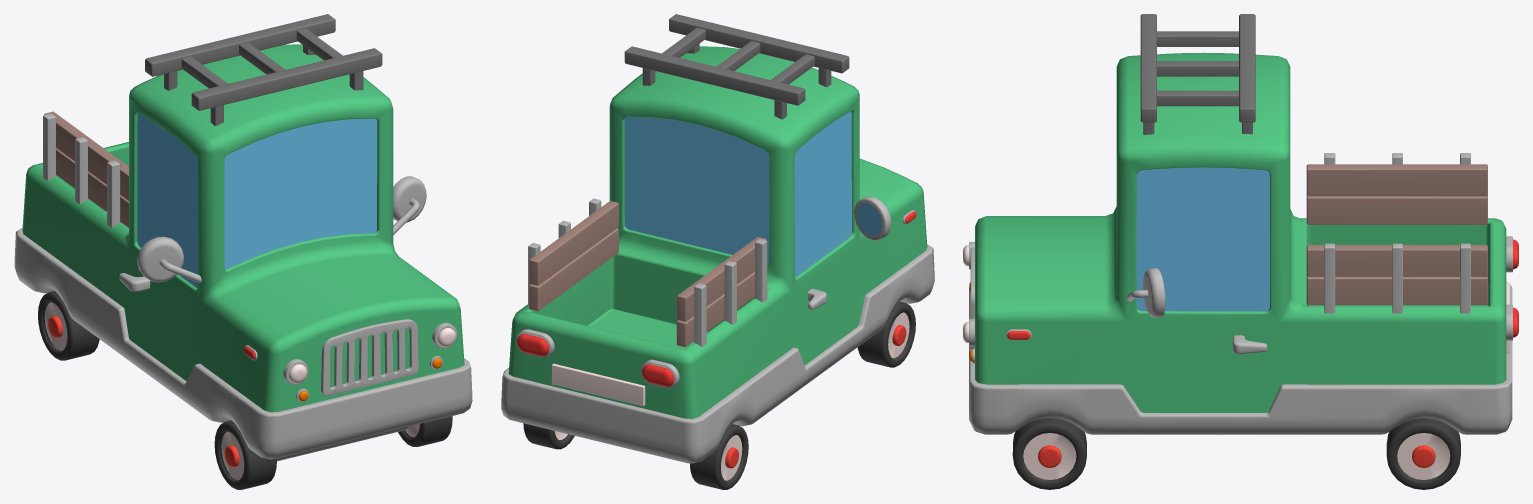
Rendered from Farm_13_Truck_1.glb.
3 renders of one model, left to right at view 1: azimuth 30°, elevation 25°; view 2: azimuth 150°, elevation 25°; view 3: azimuth 270°, elevation 25°, orthographic. The views are drawn at different scales.
Visible parts, largest first — view 1: Farm_13_Truck_1; view 2: Farm_13_Truck_1; view 3: Farm_13_Truck_1.
Boxes of the visible parts, x1,y1,x2,y2 form: Farm_13_Truck_1: [14, 14, 472, 489]; Farm_13_Truck_1: [501, 14, 934, 489]; Farm_13_Truck_1: [963, 14, 1518, 489].
Size of the model in its own units: 2.53 by 3 by 4.01.
Materials: 1 (1 with a texture image).
